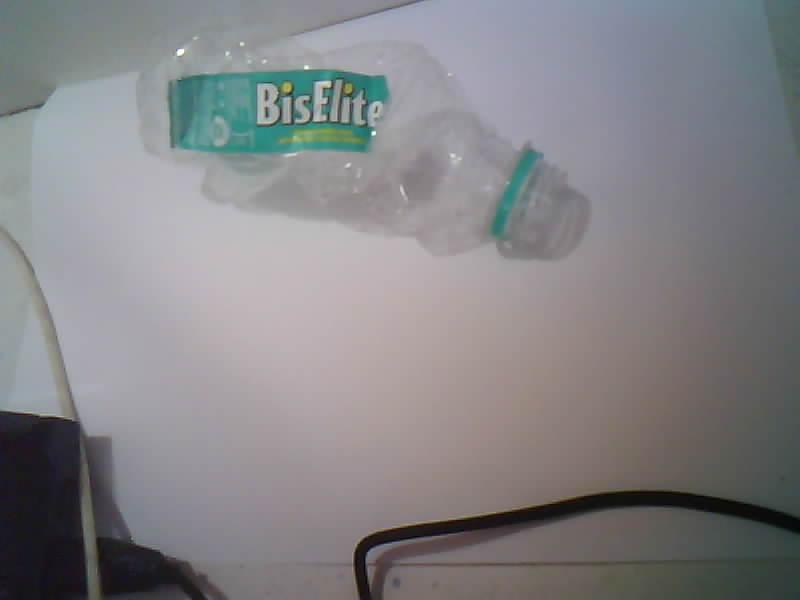non-biodegradable: (137, 30, 589, 258)
